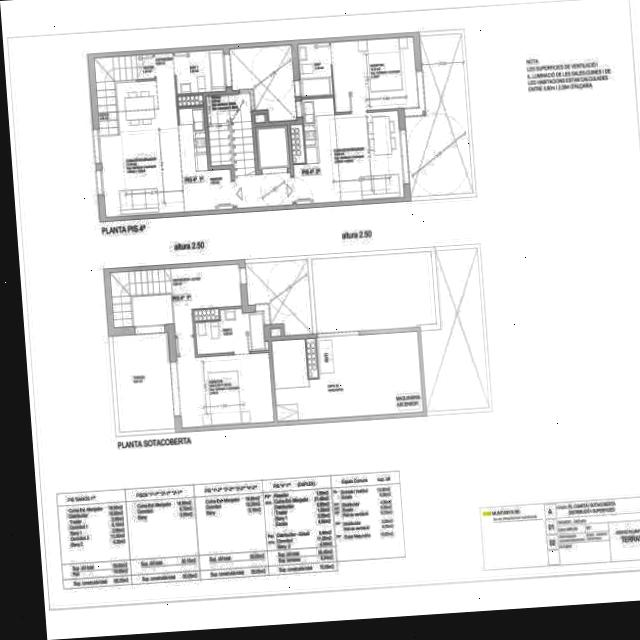room: (94, 49, 233, 216), (270, 318, 423, 421), (289, 92, 404, 204), (110, 263, 243, 339), (175, 330, 274, 427), (330, 36, 418, 111), (230, 112, 293, 208), (229, 44, 297, 123), (194, 305, 269, 353), (175, 49, 226, 93), (298, 41, 333, 97)
